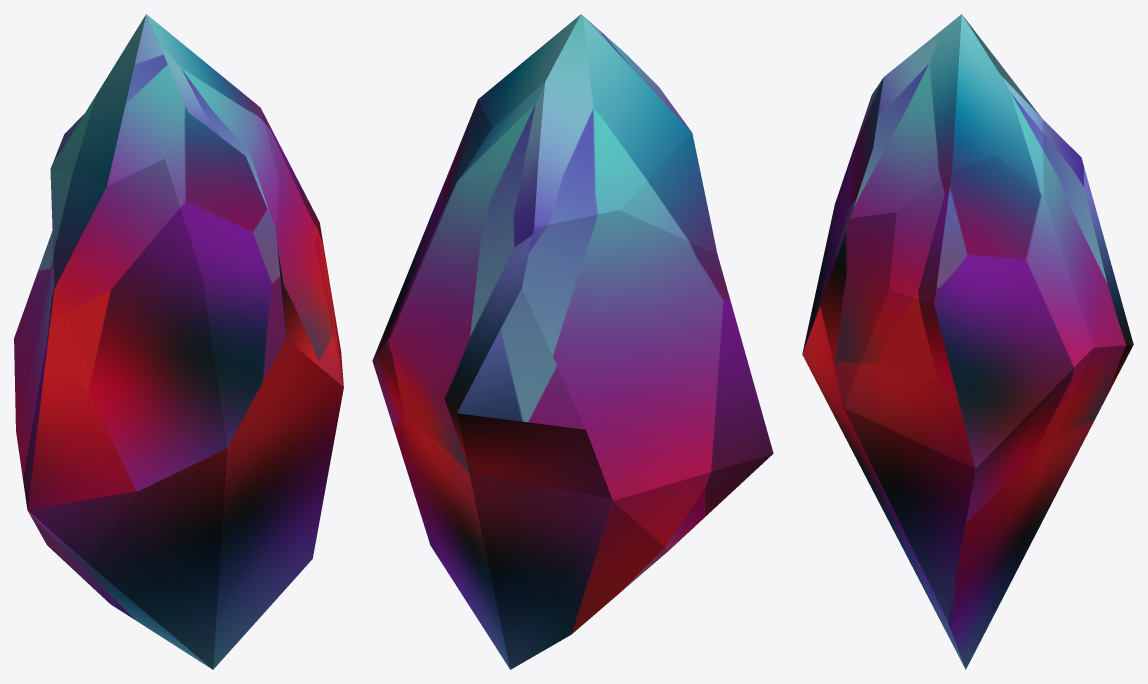
File: crystal_beta_3.glb
3 renders of one model, left to right at view 1: azimuth 30°, elevation 25°; view 2: azimuth 150°, elevation 25°; view 3: azimuth 270°, elevation 25°, orthographic. The views are drawn at different scales.
Parts seen in each view (by area): view 1: official_shit; view 2: official_shit; view 3: official_shit.
Boxes of the visible parts, box(x1,y1,x2,y2) form: official_shit: box(14, 14, 343, 669); official_shit: box(372, 14, 773, 669); official_shit: box(802, 14, 1133, 669).
Bounding box in the file's own units: 2.85 × 5.12 × 2.46.
1 material, 1 textured.
